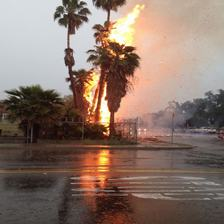fire: (74, 11, 141, 142)
